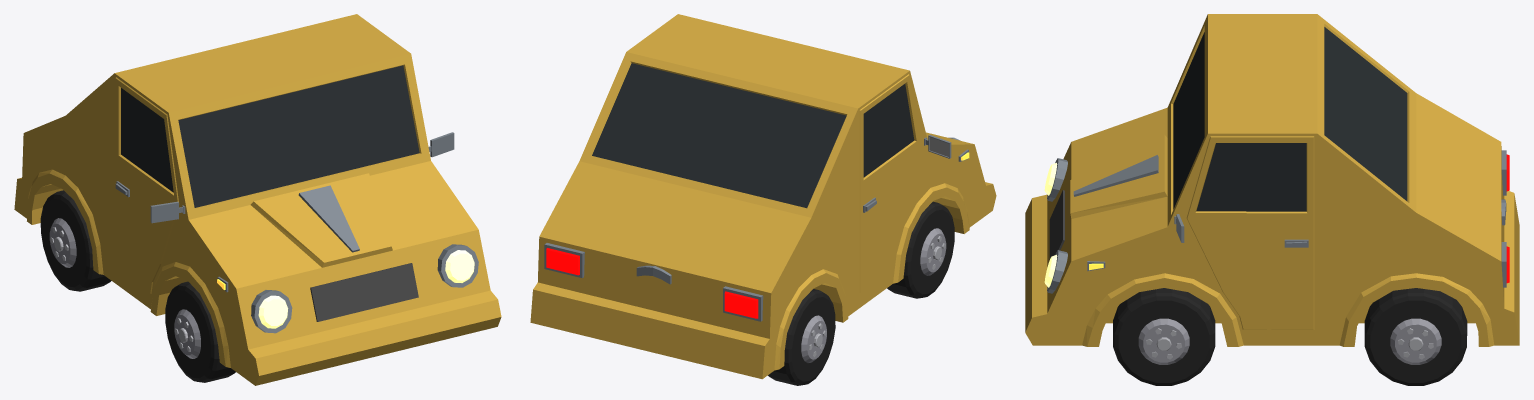
Rendered from SK_Car_01_AsStaticMesh.fbx.
The picture shows the model from 3 angles, left to right: view 1: azimuth 30°, elevation 25°; view 2: azimuth 150°, elevation 25°; view 3: azimuth 270°, elevation 25°; orthographic projection. The views are drawn at different scales.
Visible parts, largest first — view 1: SK_Car_01_AsStaticMesh_LOD0; view 2: SK_Car_01_AsStaticMesh_LOD0; view 3: SK_Car_01_AsStaticMesh_LOD0.
Boxes of the visible parts, box(x1,y1,x2,y2) form: SK_Car_01_AsStaticMesh_LOD0: box(14, 14, 501, 385); SK_Car_01_AsStaticMesh_LOD0: box(530, 14, 996, 385); SK_Car_01_AsStaticMesh_LOD0: box(1025, 14, 1519, 385).
Size of the model in its own units: 230 by 323 by 183.
Materials: 1 (1 with a texture image).
